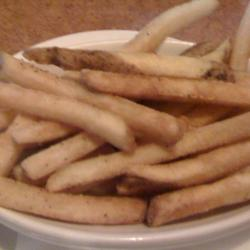fries: (35, 46, 186, 219)
